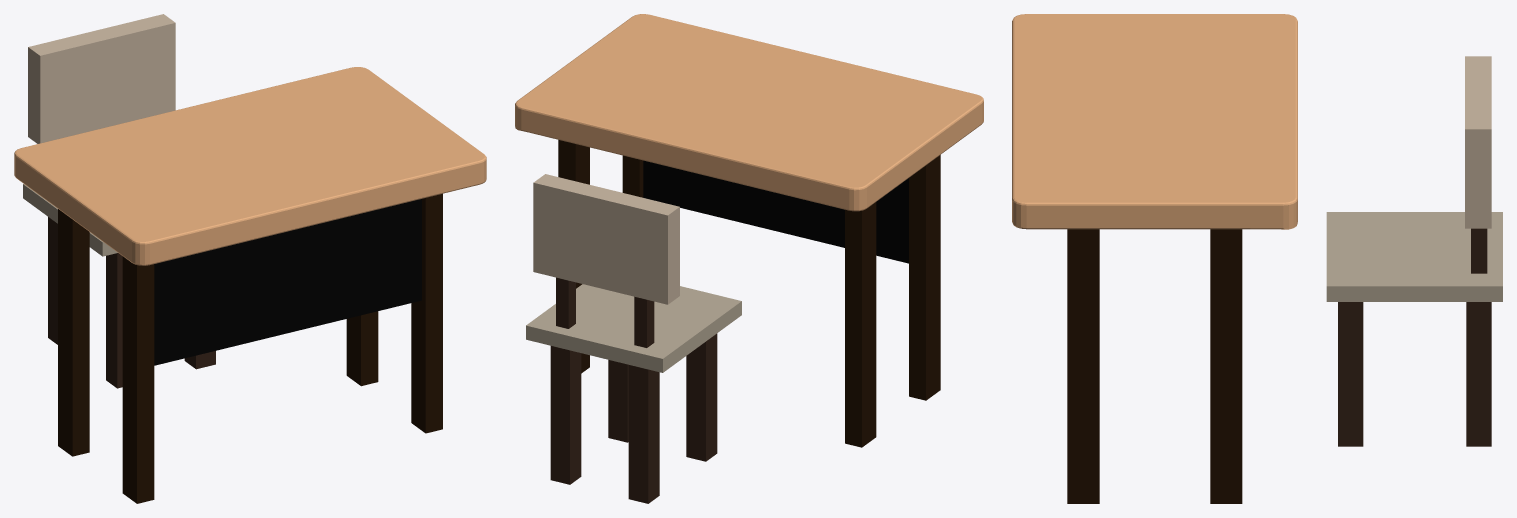
The model's file is cadeira_e_mesa_escola.glb.
3 views of the same model, side by side, from view 1: azimuth 30°, elevation 25°; view 2: azimuth 150°, elevation 25°; view 3: azimuth 270°, elevation 25° (orthographic). The views are drawn at different scales.
Parts seen in each view (by area): view 1: Cube.001, Cube.002, Cube; view 2: Cube.001, Cube, Cube.002; view 3: Cube.001, Cube, Cube.002.
Part boxes in pixels (box(x1,y1,x2,y2)): Cube.001: box(14, 67, 486, 503); Cube.002: box(28, 14, 175, 143); Cube: box(23, 184, 215, 388); Cube.001: box(515, 14, 983, 447); Cube: box(526, 277, 741, 503); Cube.002: box(533, 174, 679, 304); Cube.001: box(1012, 14, 1297, 503); Cube: box(1326, 212, 1502, 446); Cube.002: box(1465, 56, 1491, 228).
Size of the model in its own units: 8.55 by 6.85 by 9.31.
